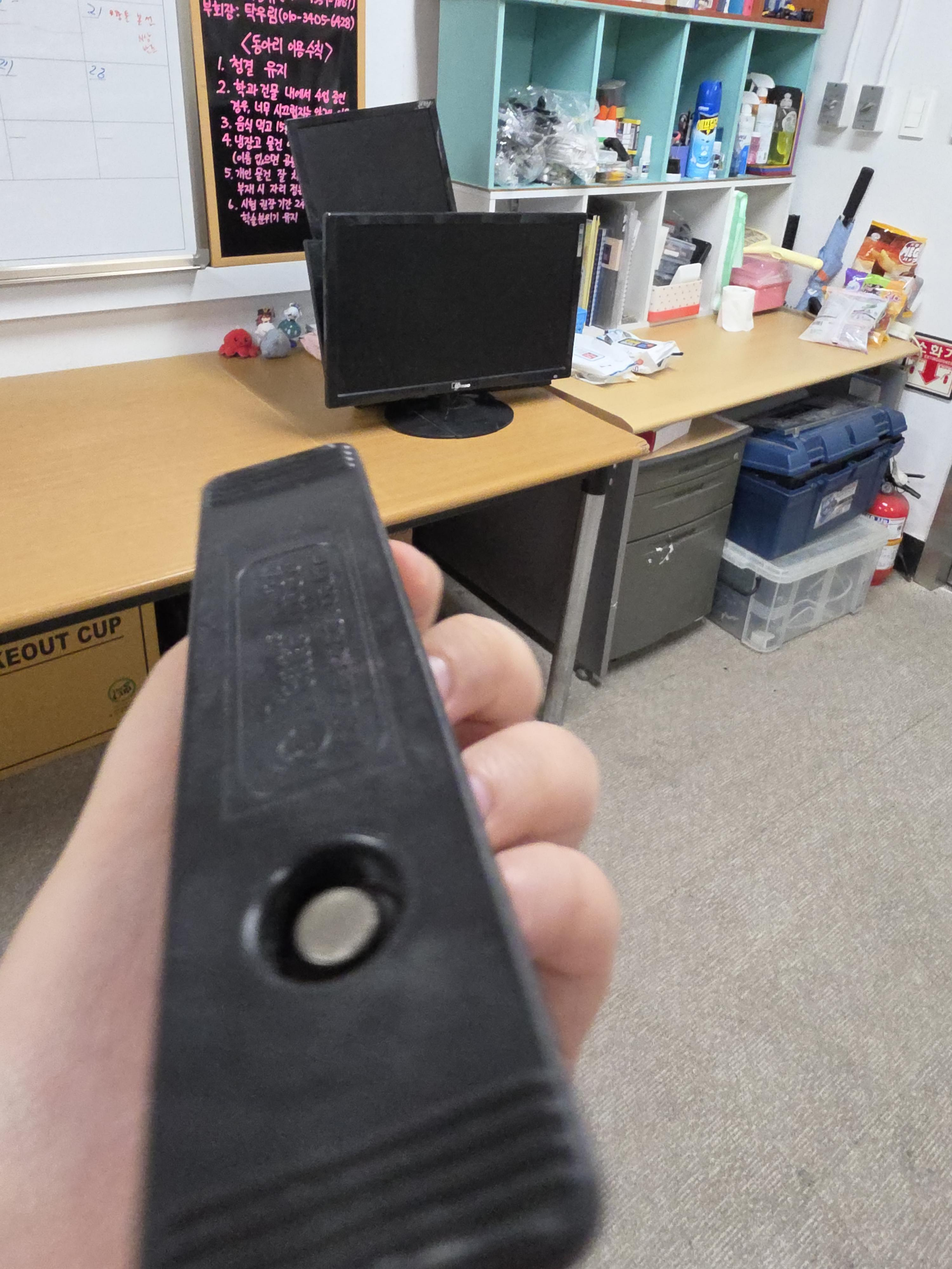stapler: (141, 441, 606, 1269)
tissue: (648, 262, 704, 325), (716, 285, 754, 333)
